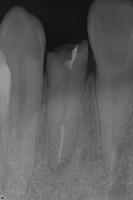Furcation Involvement: (48, 154, 72, 175)
